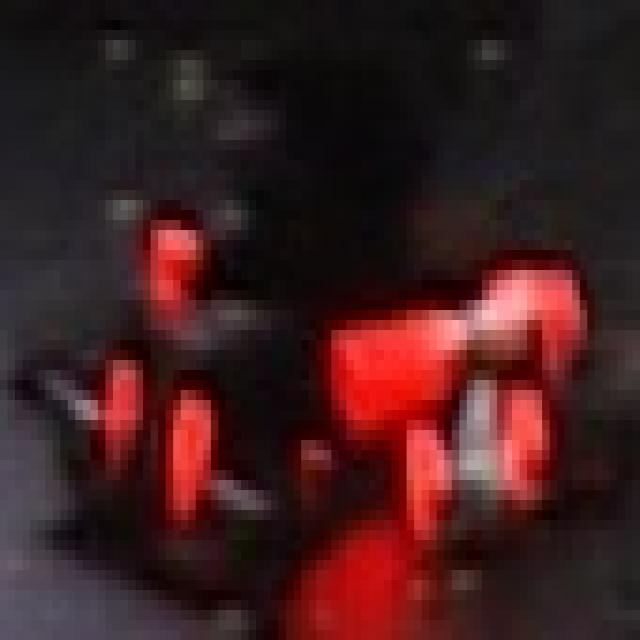R4: (407, 370, 557, 520)
